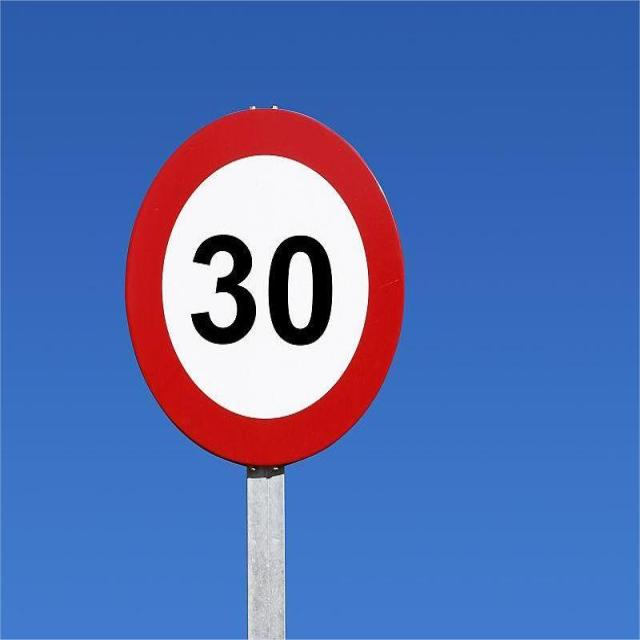speed limit 30: (124, 106, 407, 469)
